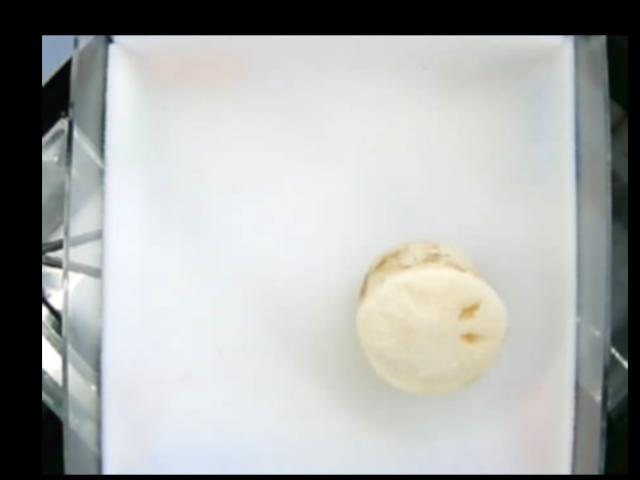Mooli: (356, 241, 510, 396)
